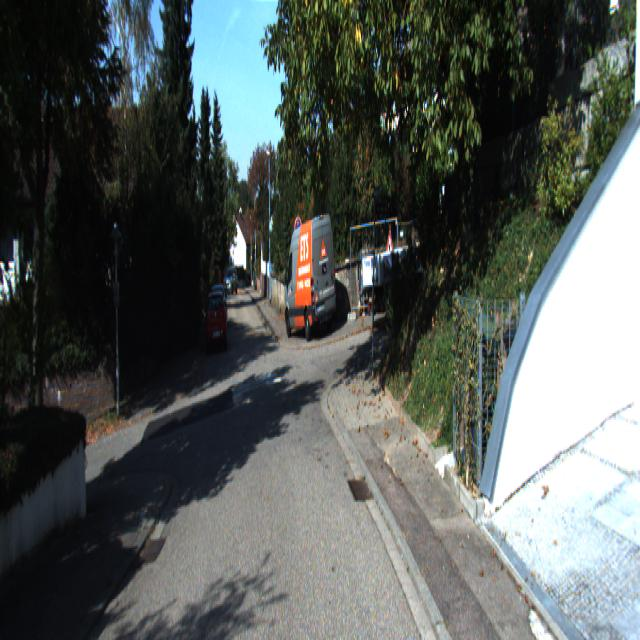Car: (361, 175, 475, 347), (284, 213, 338, 342), (203, 291, 229, 359)
